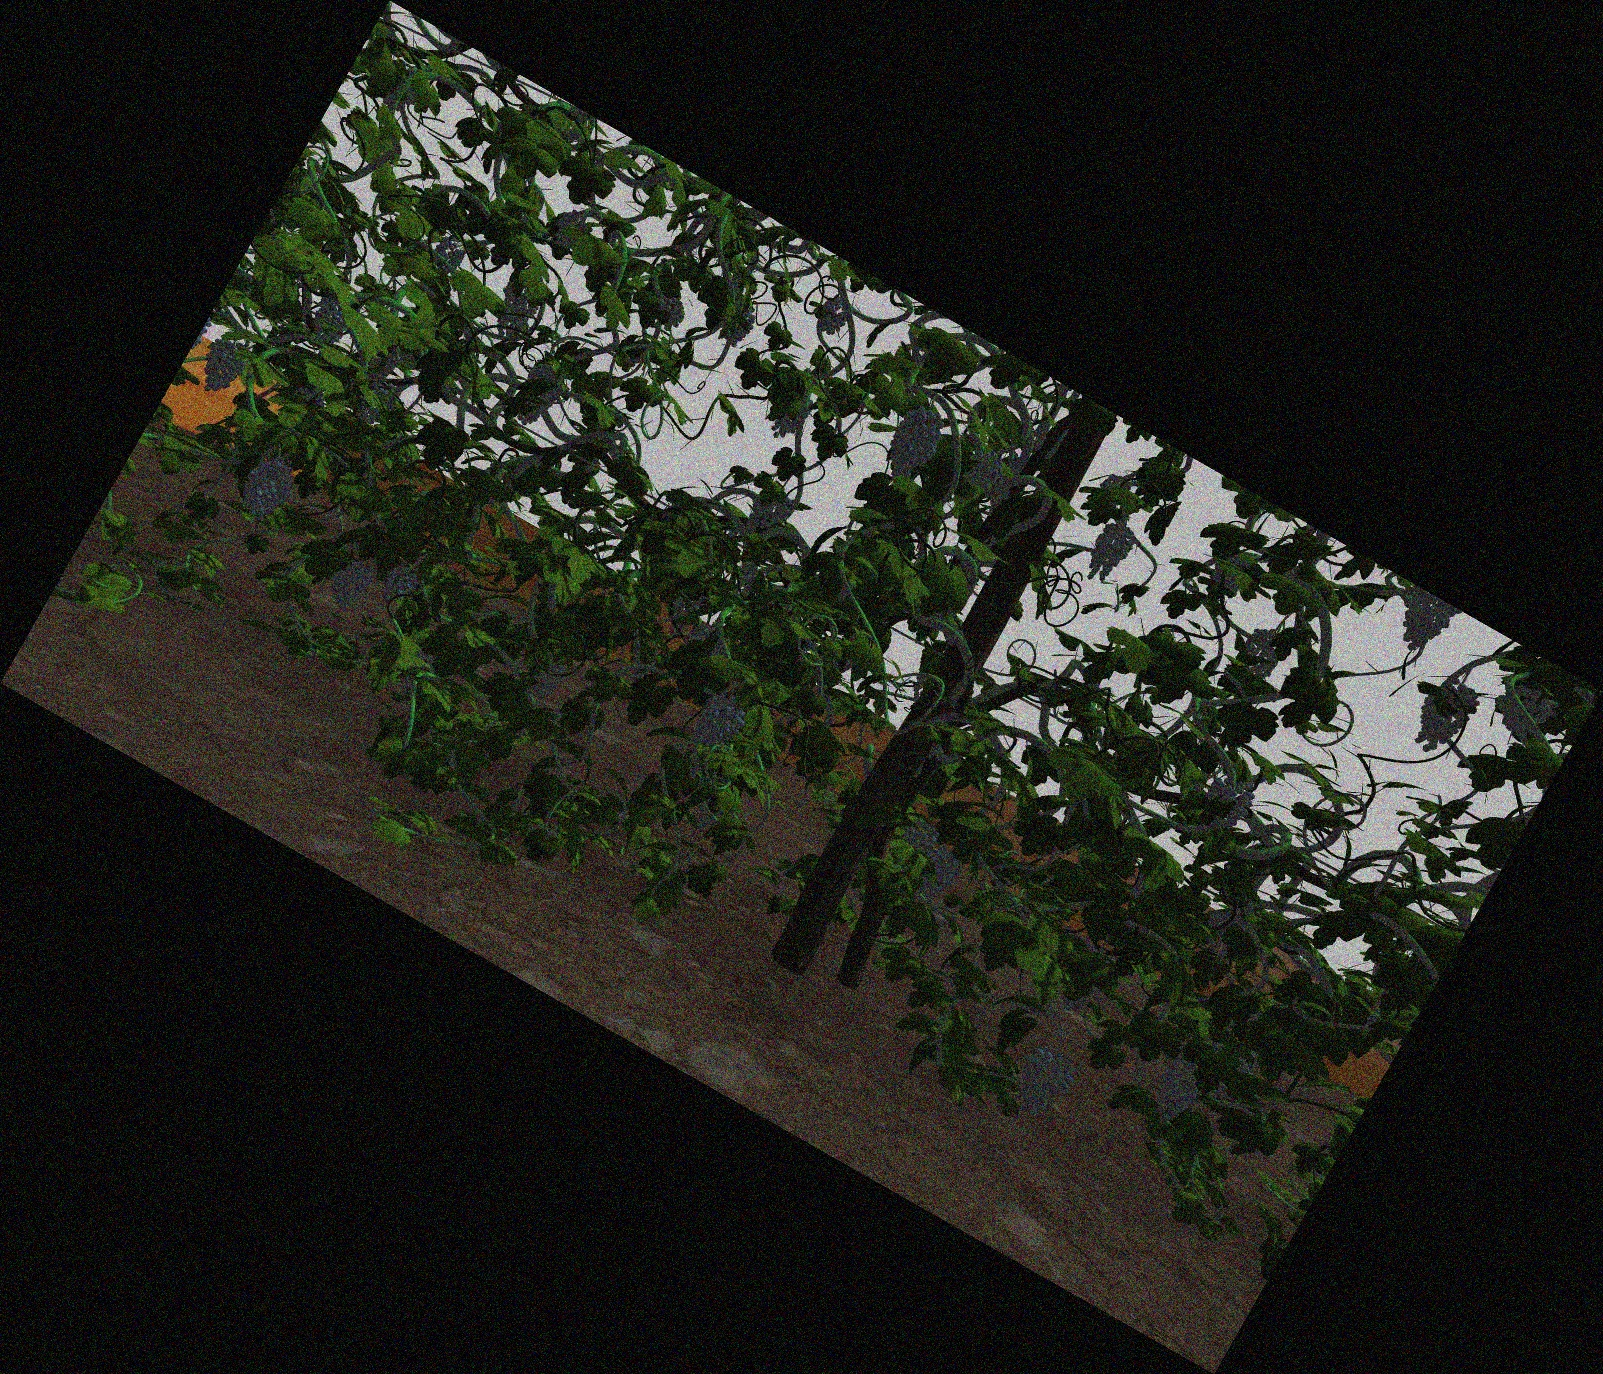grape: (1018, 1050, 1069, 1114), (893, 405, 936, 478), (1420, 682, 1465, 751), (1497, 688, 1550, 733), (1155, 1060, 1194, 1120), (245, 459, 284, 519), (1399, 601, 1445, 650), (1206, 776, 1249, 827), (519, 368, 556, 424), (697, 698, 733, 752), (204, 337, 240, 393), (920, 851, 953, 905), (1093, 525, 1125, 581), (1245, 628, 1283, 673), (493, 290, 532, 335), (333, 562, 367, 609), (750, 487, 782, 534), (528, 656, 562, 698), (383, 564, 413, 604), (966, 450, 996, 487), (315, 303, 343, 338), (556, 211, 583, 248), (902, 822, 936, 851), (821, 300, 846, 335), (433, 240, 461, 273), (656, 299, 684, 327)
